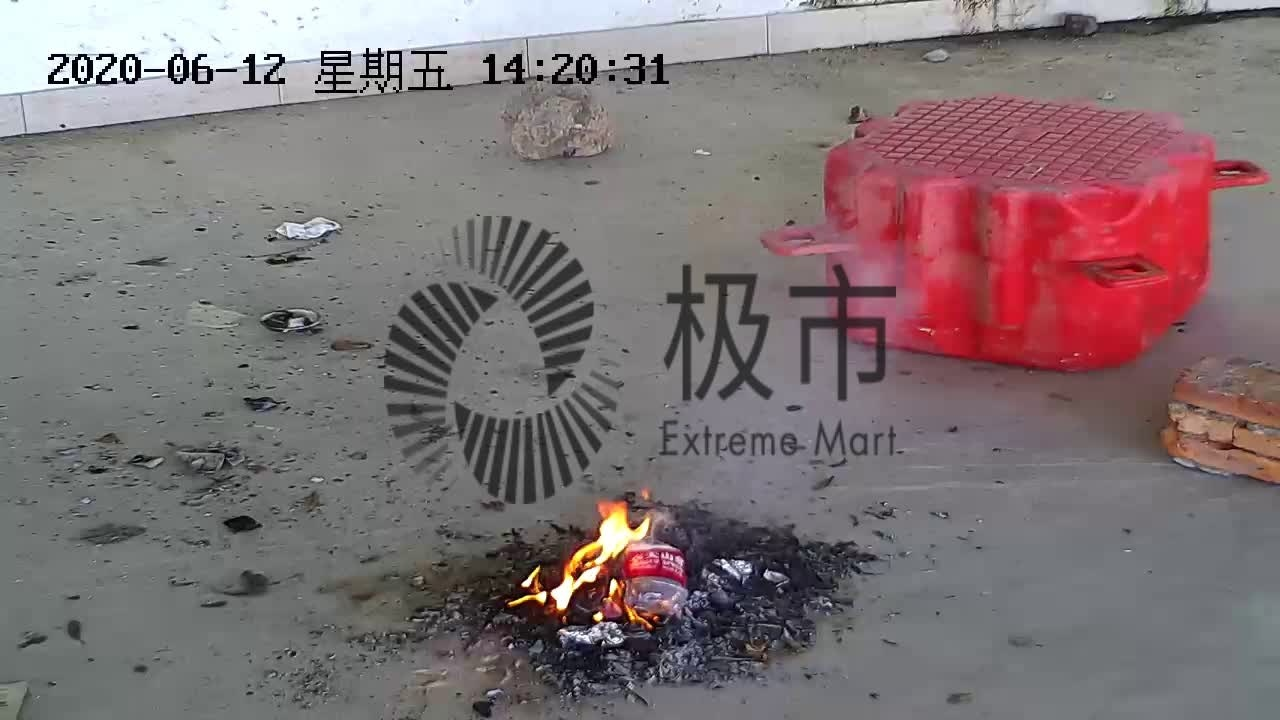fire: (506, 491, 670, 633)
